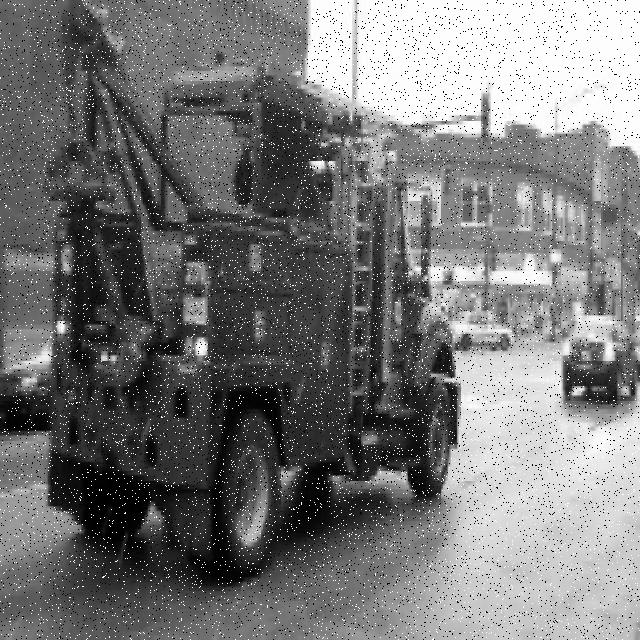Tow Truck: (44, 0, 462, 585)
